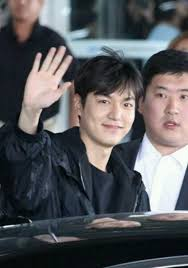palm: (22, 45, 75, 112)
